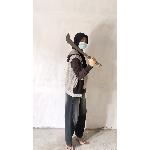Golok: (64, 31, 106, 69)
